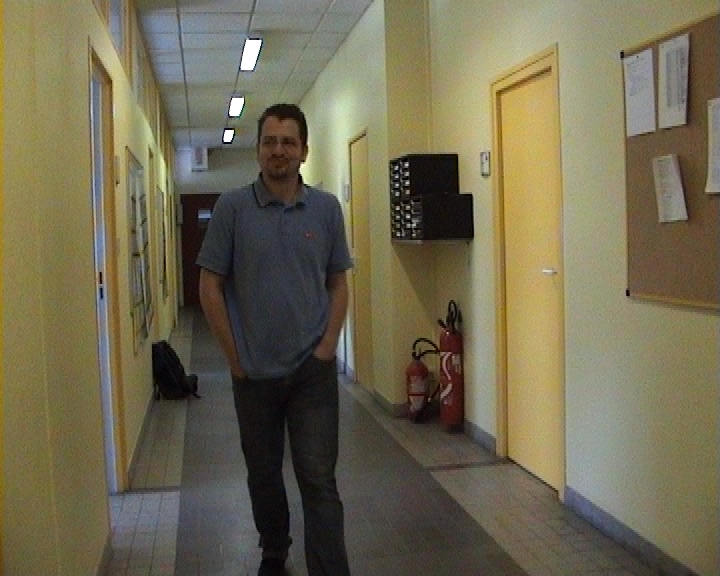leave bag unattended: (151, 322, 221, 435)
